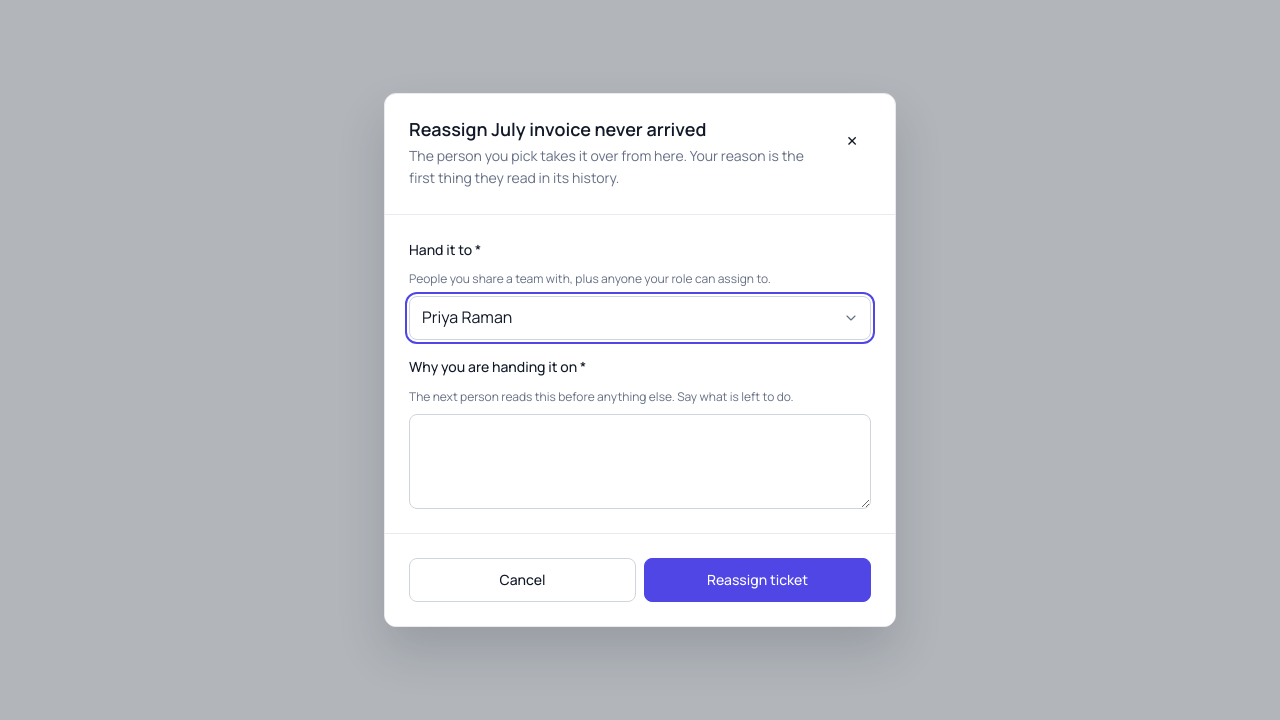
it: the required reason › clears the error as soon as the agent starts fixing it
This screenshot has width=1280, height=720.
Click the button "Reassign ticket". click: click(758, 580)
box: [644,558,871,602]
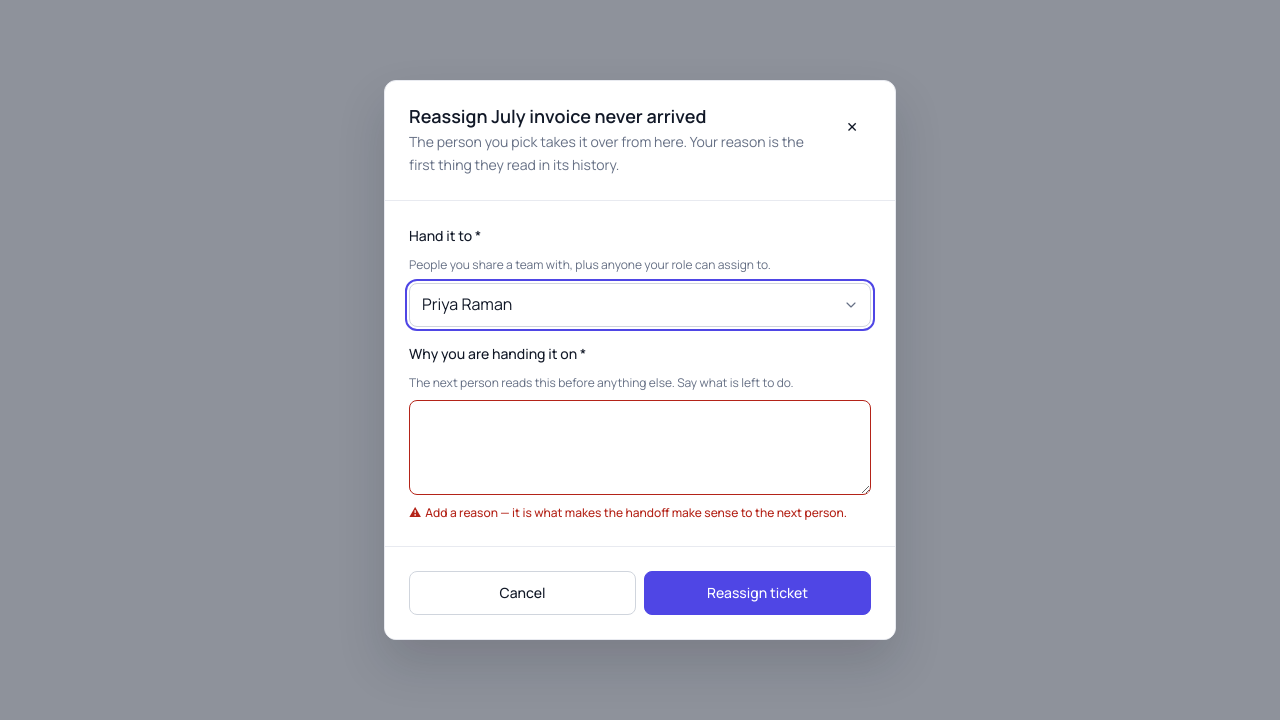
Now the text "Add a reason — it is what makes the handoff make sense to the next person." is shown, box [409,503,871,522]
Type "Handing this over." into the text box labelled "Why you are handing it on *". click: (640, 448)
box: [409,400,871,495]
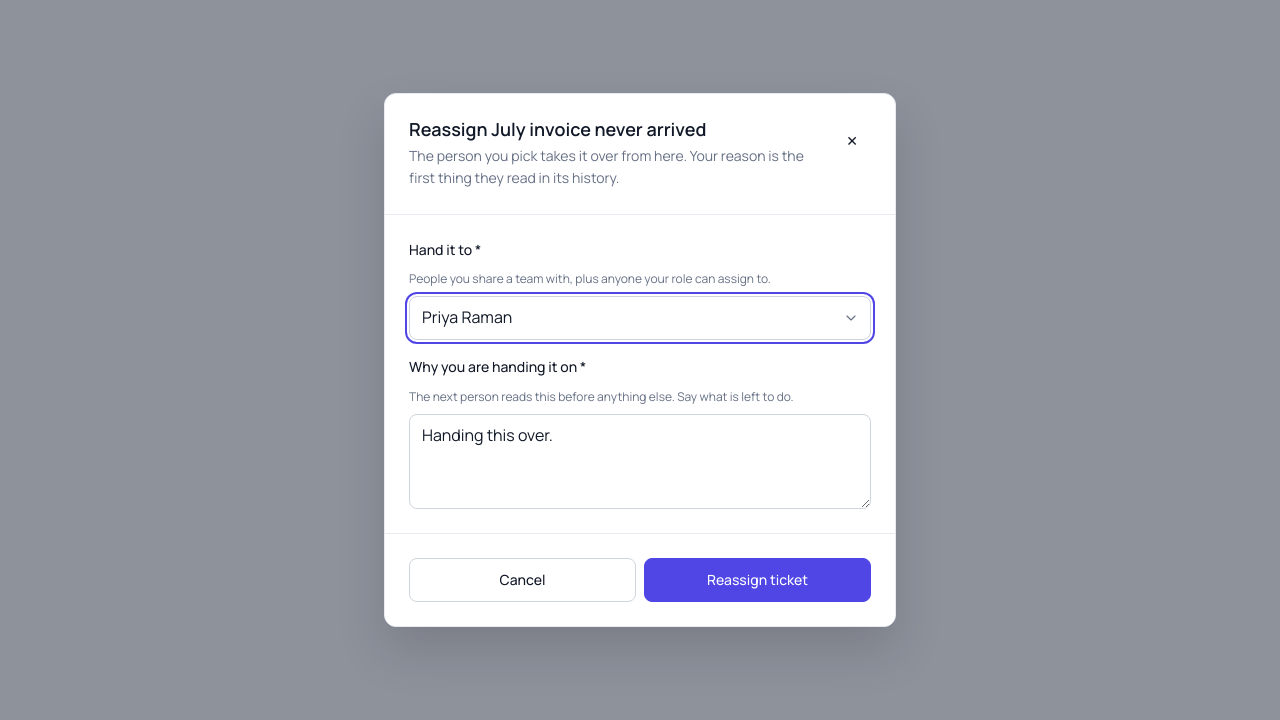
Now the text "Add a reason — it is what makes the handoff make sense to the next person." is gone
